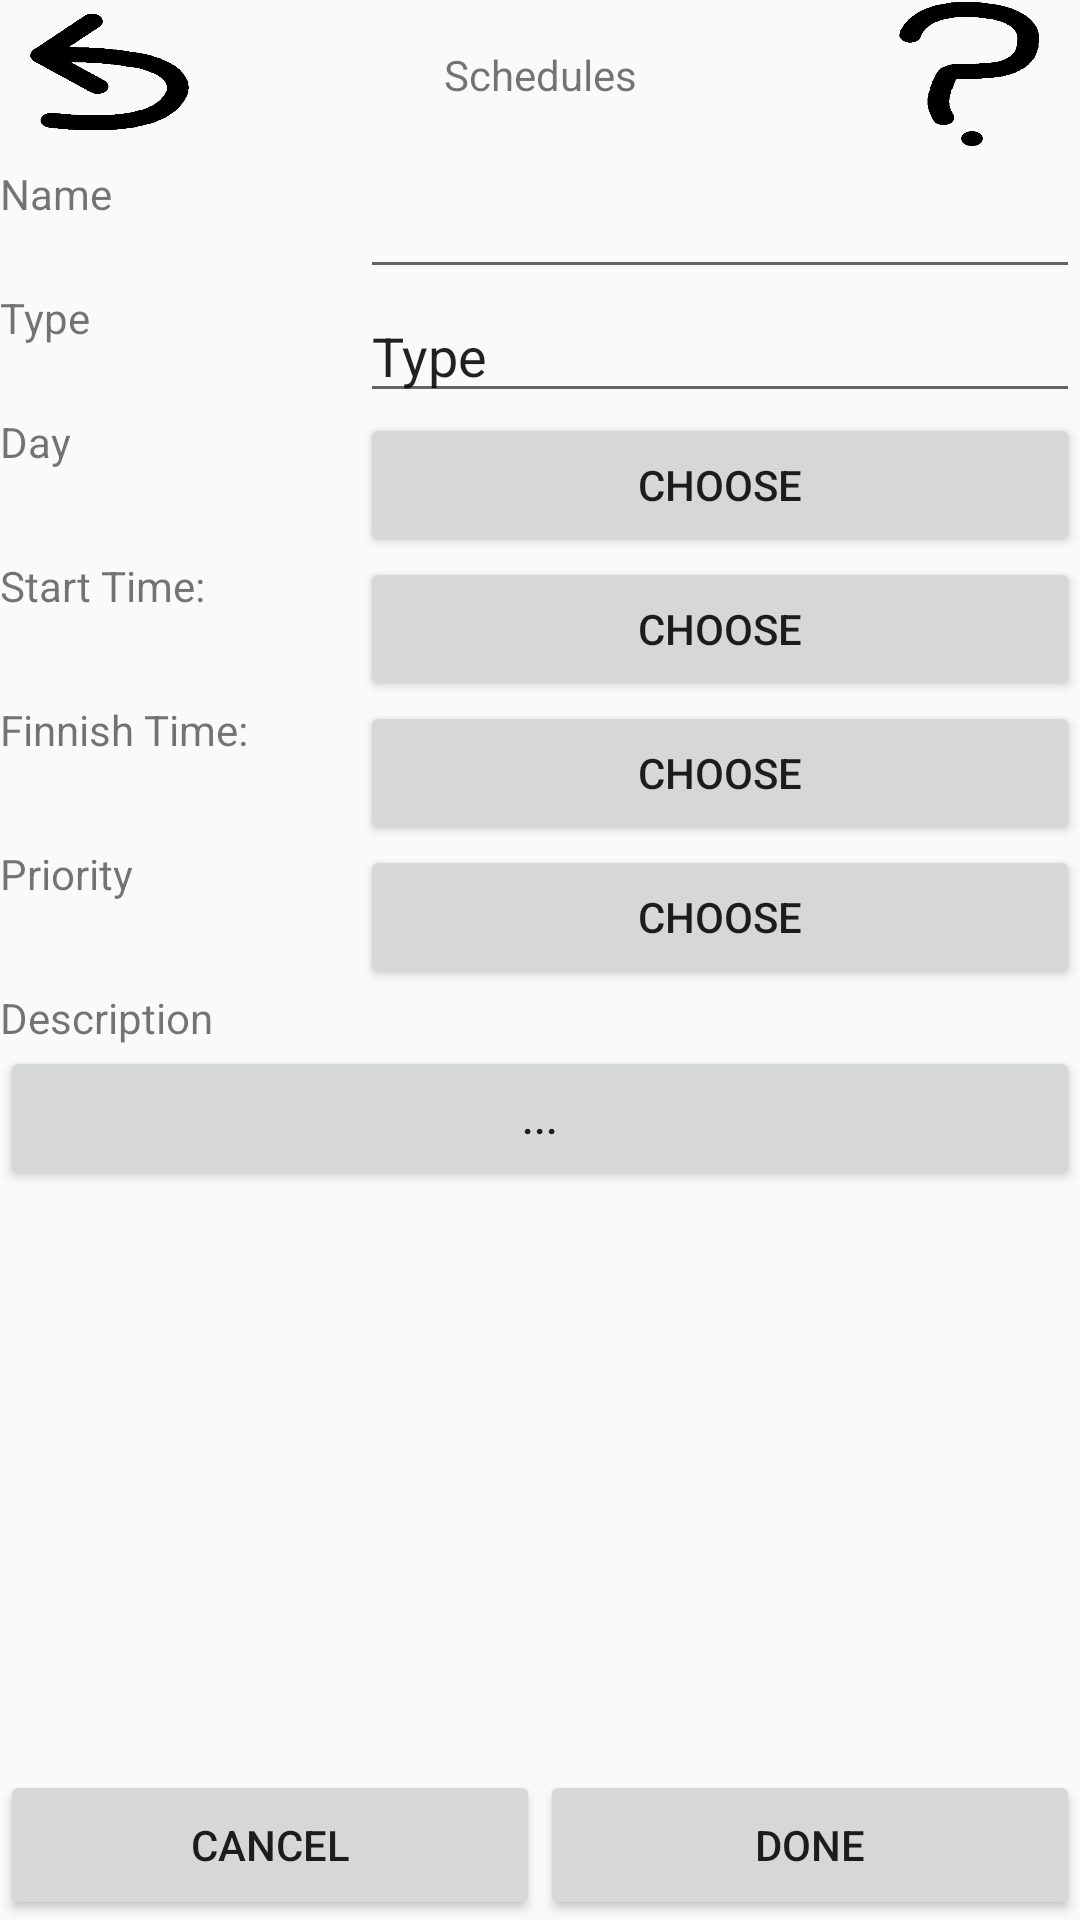

Screen size 1080x1920. Icon name, then its box in pixels as [x1=x1, y1=y1, x2=x2, y2=y2]:
backbutton: [x1=30, y1=14, x2=189, y2=130]
questionmark: [x1=899, y1=2, x2=1039, y2=146]
